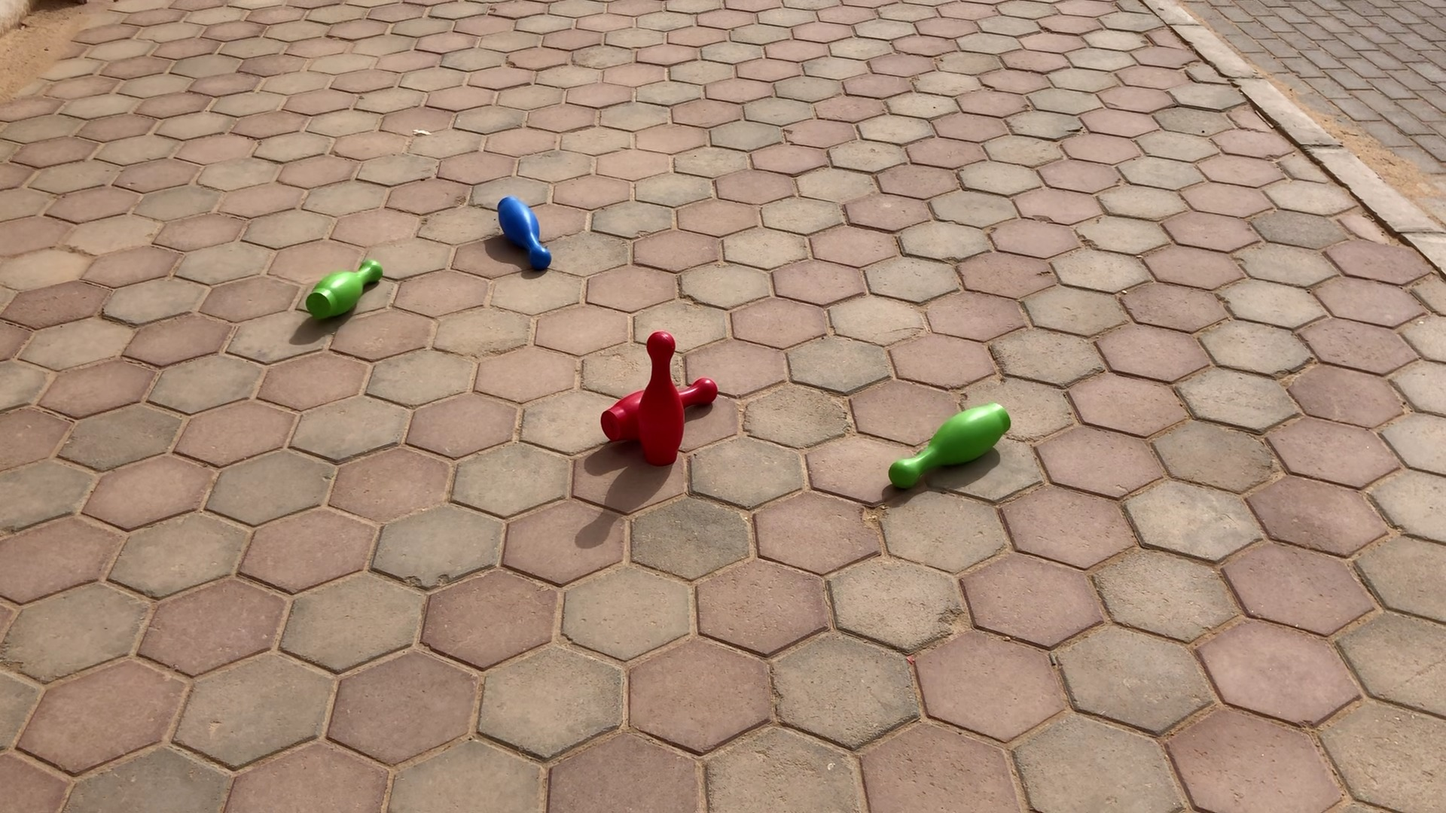pin: (887, 403, 1007, 488), (642, 333, 685, 464), (305, 260, 380, 319), (497, 196, 553, 270)
